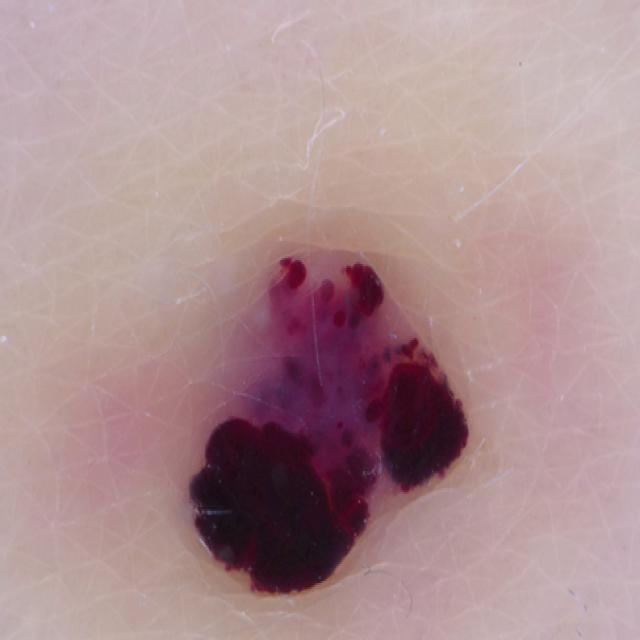Vascular Lesions: (155, 193, 501, 605)
